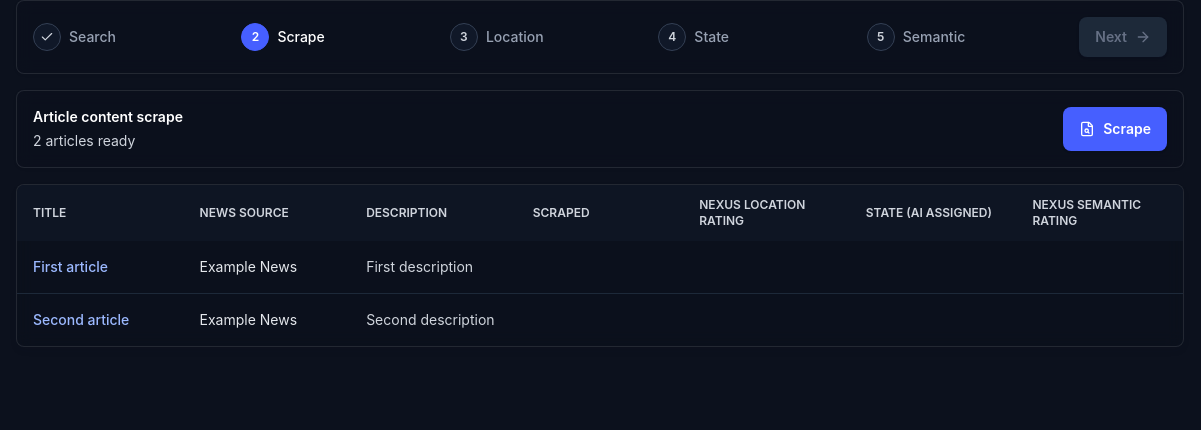
Test: ScrapeBar › runs the scrape job, merges results, and enables Next after completion
Check: the button "Next" is disabled, box x1=1079 y1=17 x2=1167 y2=57
What coordinates should you click on to do the following:
click the button "Scrape"
I would click on:
 (1115, 129)
Its box is x1=1063 y1=107 x2=1167 y2=151.
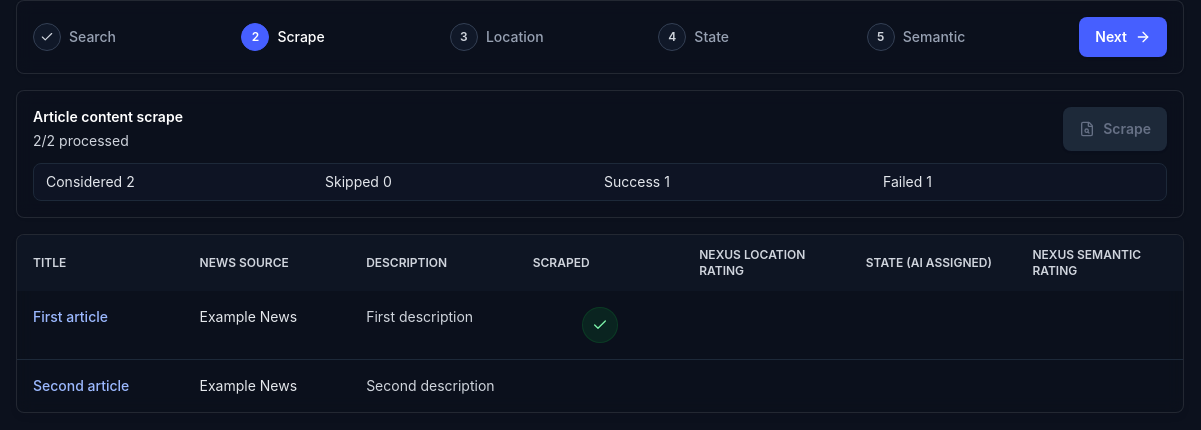
Check: the text "2/2 processed" is shown, box x1=33 y1=132 x2=129 y2=149
Check: the text "Considered 2" is shown, box x1=46 y1=173 x2=135 y2=190
Check: the text "Success 1" is shown, box x1=604 y1=173 x2=670 y2=190
